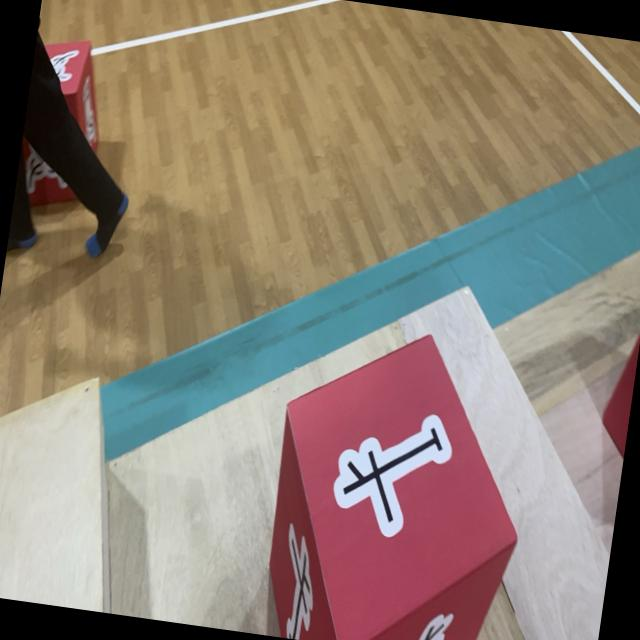8: (46, 46, 80, 84)
9: (326, 402, 458, 545), (273, 522, 325, 640), (411, 608, 453, 640)
fighter: (251, 315, 545, 640), (13, 36, 112, 212), (598, 320, 640, 459)
